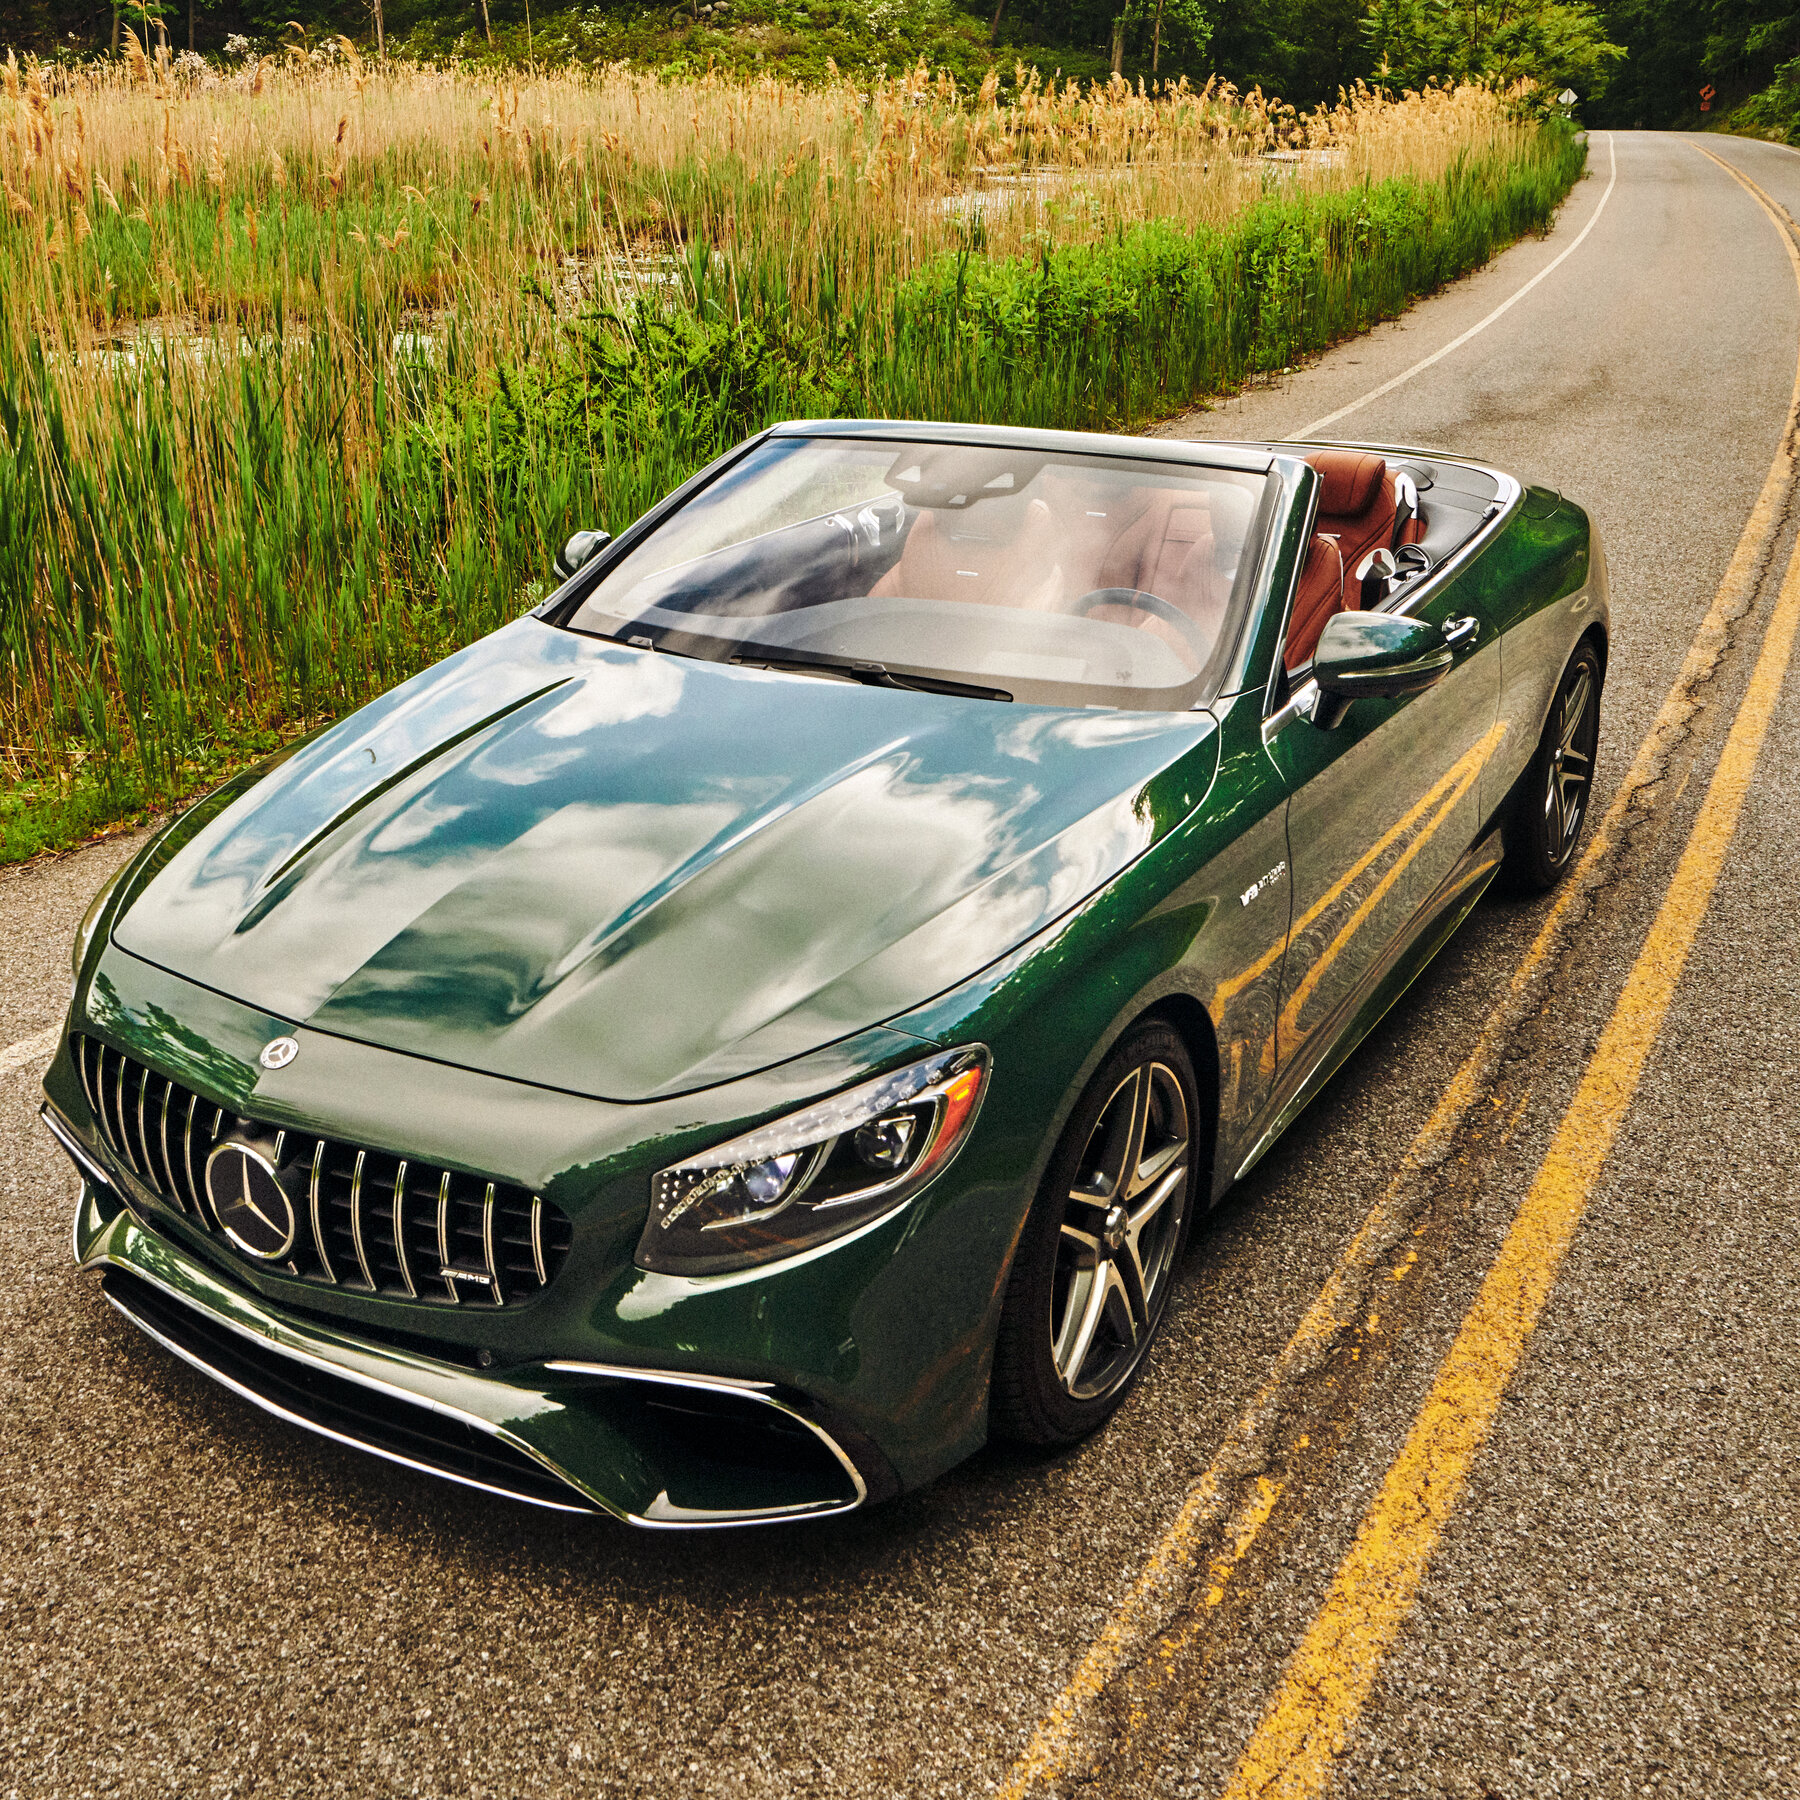car: (36, 415, 1607, 1549)
